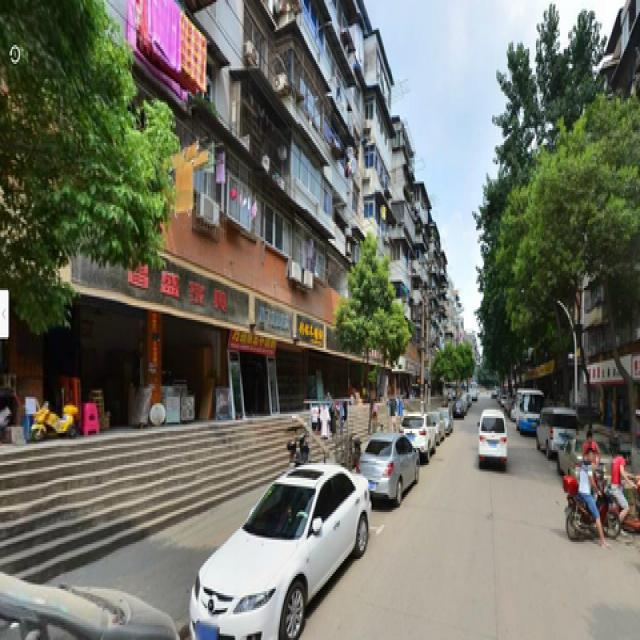cinn: (351, 252, 397, 416)
